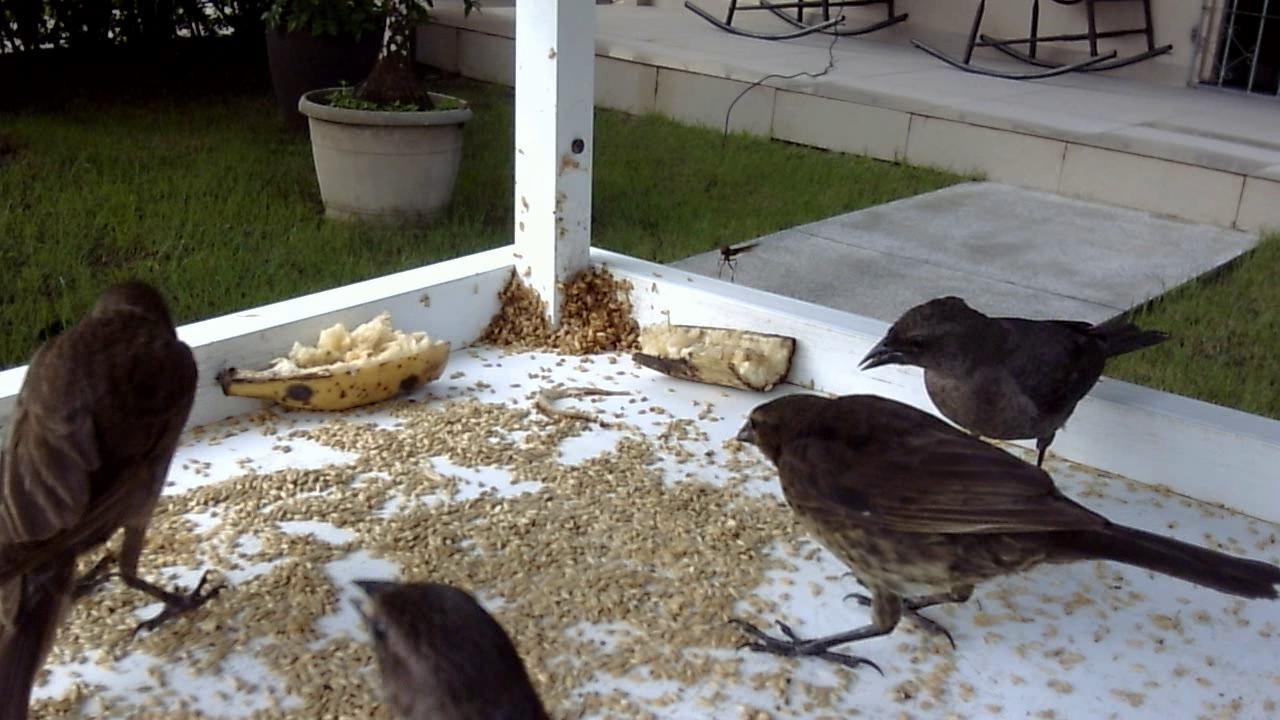chupim: (709, 382, 1280, 677), (1, 264, 244, 713), (848, 263, 1183, 489), (331, 560, 554, 712)
